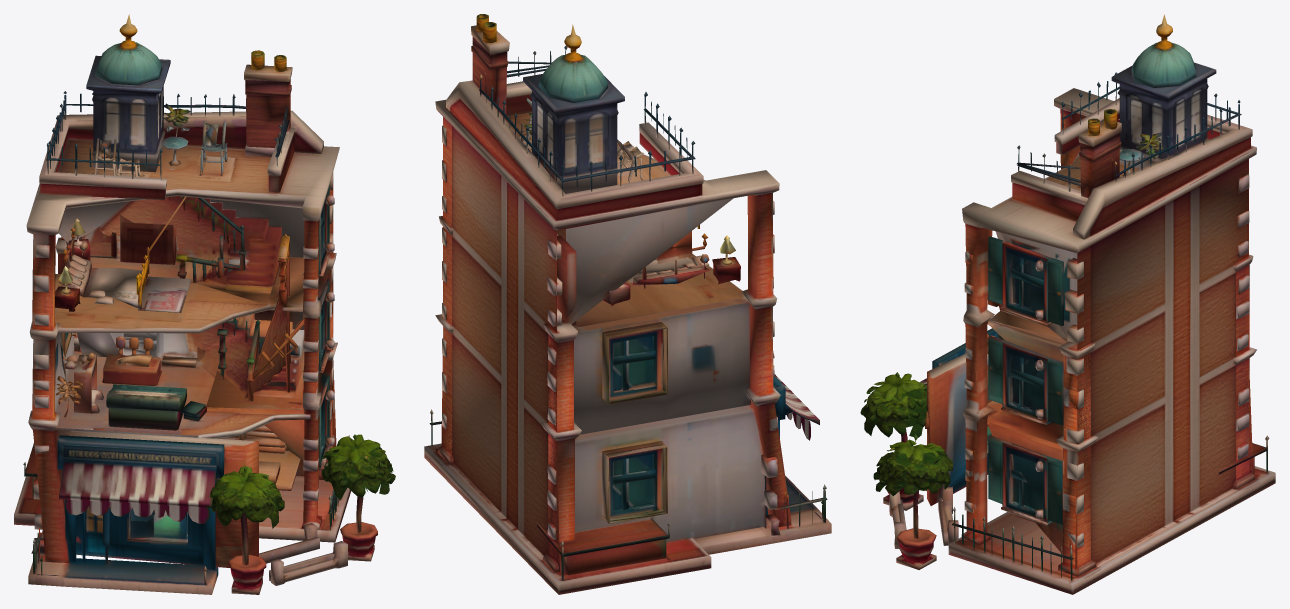
The model's file is tier3-lv15.glb.
The picture shows the model from 3 angles, left to right: view 1: azimuth 30°, elevation 25°; view 2: azimuth 150°, elevation 25°; view 3: azimuth 270°, elevation 25°; orthographic projection. The views are drawn at different scales.
Visible parts, largest first — view 1: tripo_node_de4ca728-4aa5-4c92-b564-a98fc41b82c9; view 2: tripo_node_de4ca728-4aa5-4c92-b564-a98fc41b82c9; view 3: tripo_node_de4ca728-4aa5-4c92-b564-a98fc41b82c9.
Part boxes in pixels (left/top/right/bottom): tripo_node_de4ca728-4aa5-4c92-b564-a98fc41b82c9: left=14, top=14, right=395, bottom=594; tripo_node_de4ca728-4aa5-4c92-b564-a98fc41b82c9: left=424, top=14, right=831, bottom=594; tripo_node_de4ca728-4aa5-4c92-b564-a98fc41b82c9: left=860, top=14, right=1275, bottom=594.
Size of the model in its own units: 0.7651 by 0.998 by 0.7621.
Materials: 1 (1 with a texture image).
